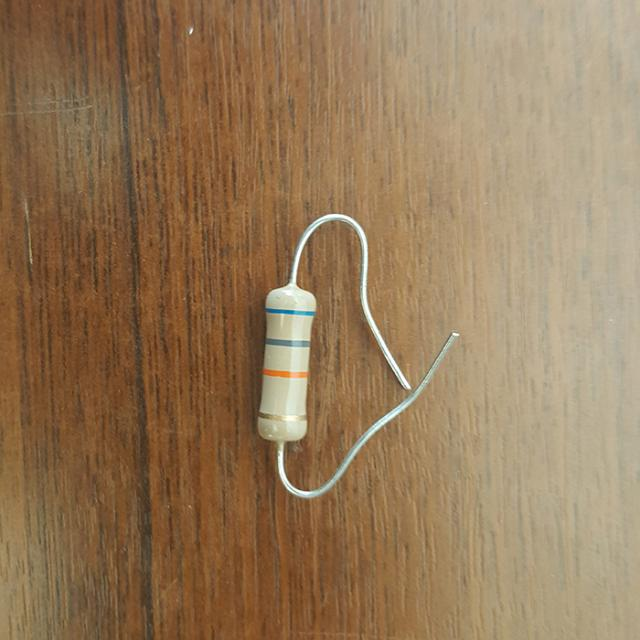blue: (266, 308, 314, 315)
gold: (257, 411, 305, 420)
grey: (267, 338, 308, 346)
orange: (263, 370, 305, 378)
resistor: (256, 270, 320, 447)
